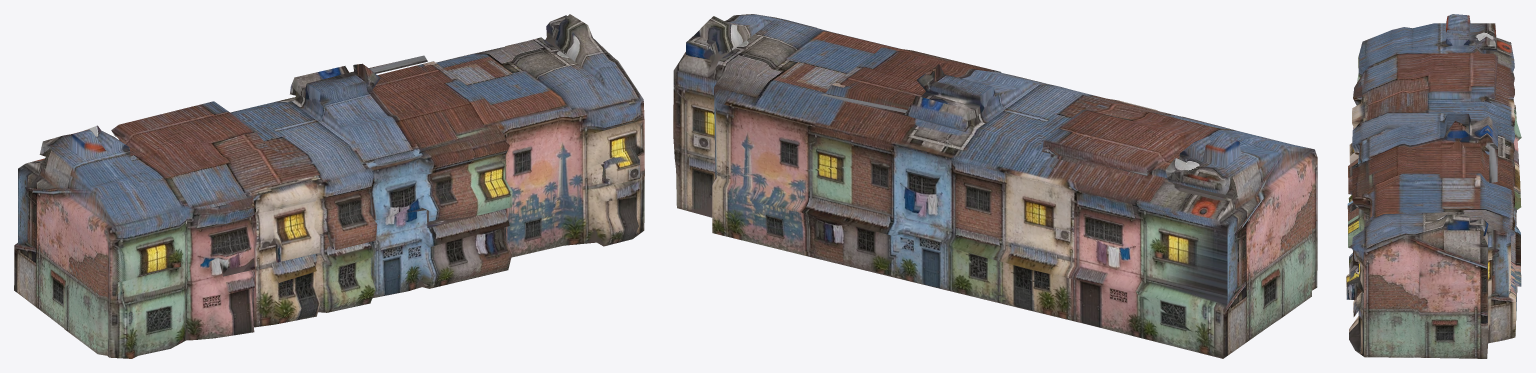
The model's file is kampung-block.glb.
3 views of the same model, side by side, from view 1: azimuth 30°, elevation 25°; view 2: azimuth 150°, elevation 25°; view 3: azimuth 270°, elevation 25° (orthographic). The views are drawn at different scales.
Visible parts, largest first — view 1: kampung-block; view 2: kampung-block; view 3: kampung-block.
Part boxes in pixels (box(x1,y1,x2,y2)): kampung-block: box(14, 14, 644, 358); kampung-block: box(673, 14, 1317, 358); kampung-block: box(1346, 14, 1521, 358).
Size of the model in its own units: 30 by 9.35 by 10.1.
Materials: 1 (1 with a texture image).
